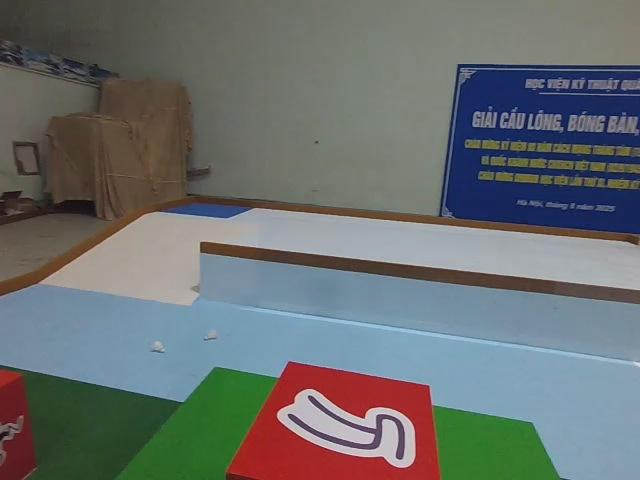R2 Fake: (233, 360, 439, 480)
